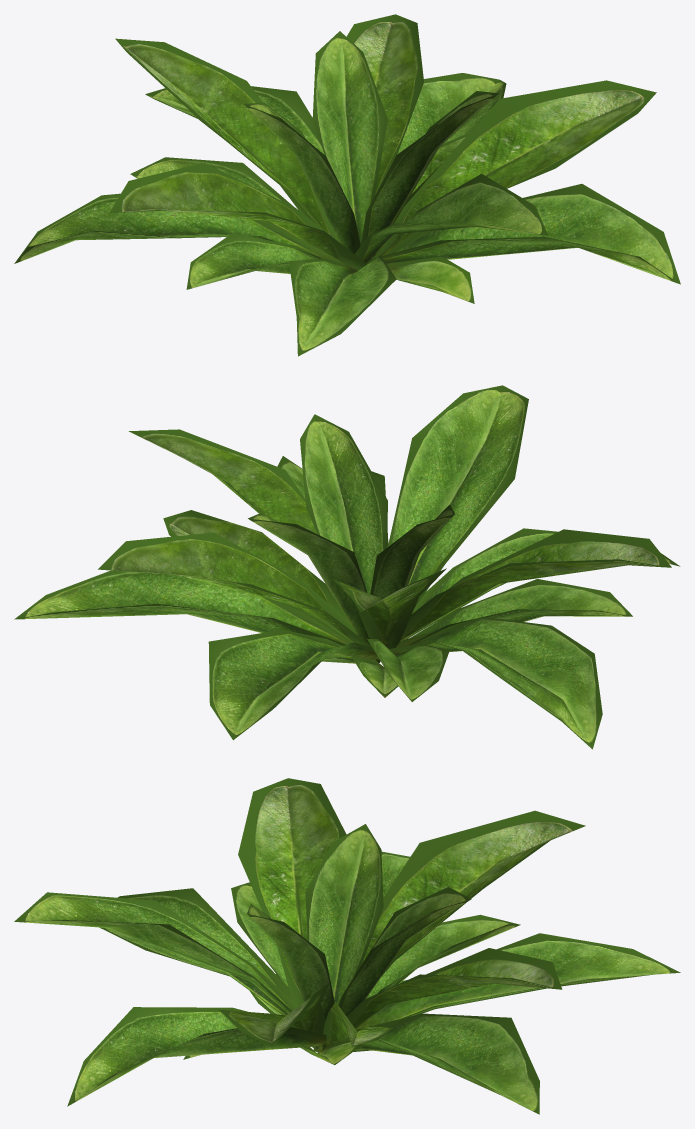
File: plant_03.FBX
3 renders of one model, top to bottom at view 1: azimuth 30°, elevation 25°; view 2: azimuth 150°, elevation 25°; view 3: azimuth 270°, elevation 25°, orthographic. The views are drawn at different scales.
Parts seen in each view (by area): view 1: plant_03; view 2: plant_03; view 3: plant_03.
Part boxes in pixels (x1,y1,x2,y2): plant_03: (14,14,680,356); plant_03: (14,385,680,749); plant_03: (14,778,680,1114).
Size of the model in its own units: 41.05 by 13.63 by 43.24.
